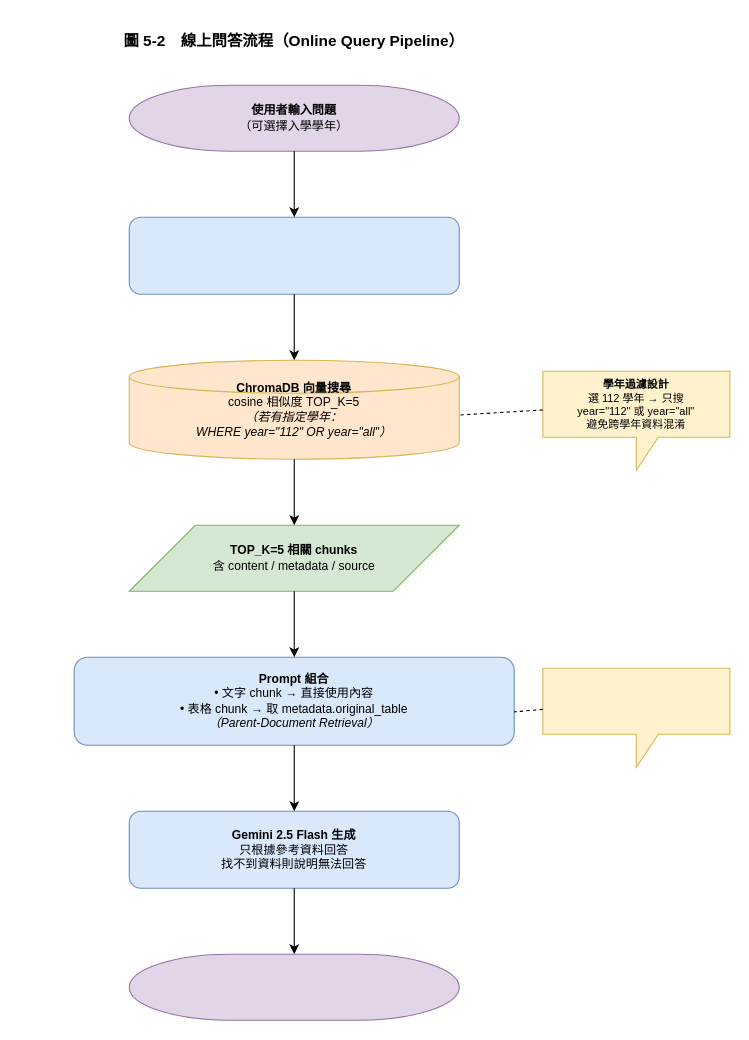
Some shapes in this 749 by 1040 pixel diagram are drawn without their labels. The shapes that lost their labels are listed below. From the top down, each one's box as (x1, y1, x2, y2) in pixels, then its label:
(128, 216, 459, 294): 問題向量化 Gemini Embedding API task_type = RETRIEVAL_QUERY
(542, 667, 730, 767): Parent-Document Retrieval 搜尋：AI摘要（語意豐富） 回答：原始表格（精確完整）
(128, 953, 459, 1020): 顯示答案 含來源引用（如「根據《112學年課規》…」）
